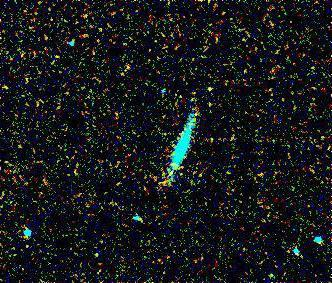star: (202, 73, 232, 103)
